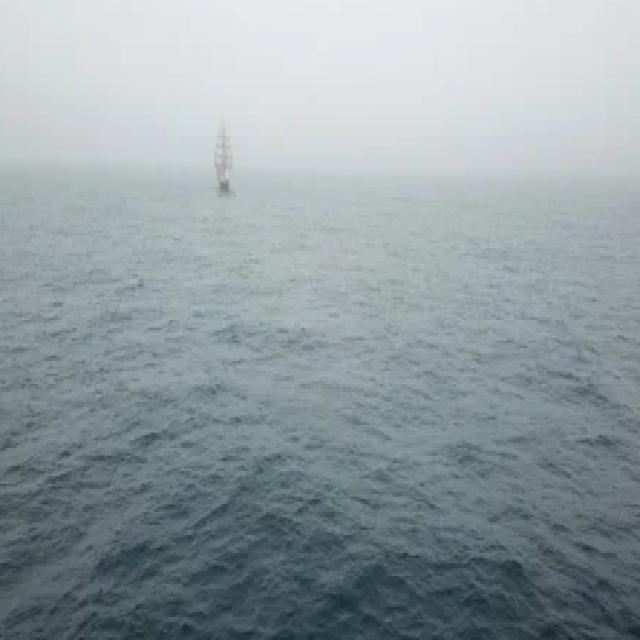fishing boat: (214, 127, 238, 200)
